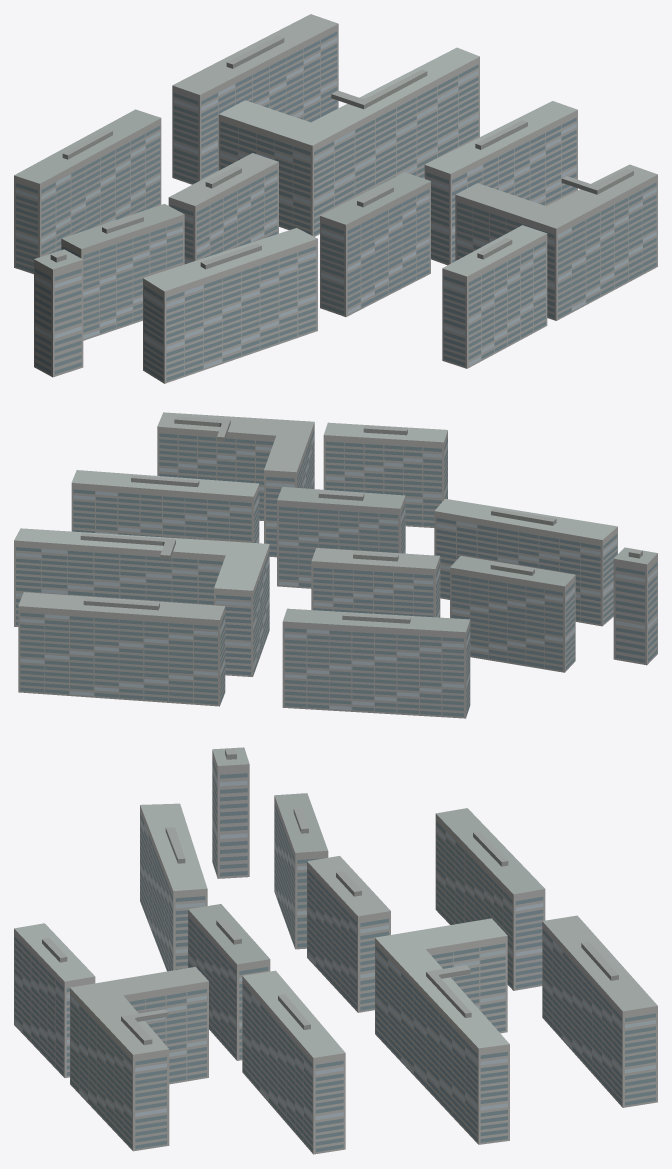
The model's file is apt-a13585804.glb.
3 views of the same model, one above another, from view 1: azimuth 30°, elevation 25°; view 2: azimuth 150°, elevation 25°; view 3: azimuth 270°, elevation 25° (orthographic). The views are drawn at different scales.
Visible parts, largest first — view 1: apt-a13585804; view 2: apt-a13585804; view 3: apt-a13585804.
Boxes of the visible parts, x1=… form: apt-a13585804: x1=14, y1=14, x2=657, y2=383; apt-a13585804: x1=14, y1=412, x2=657, y2=718; apt-a13585804: x1=14, y1=747, x2=657, y2=1154.
Size of the model in its own units: 256 by 47.81 by 237.
